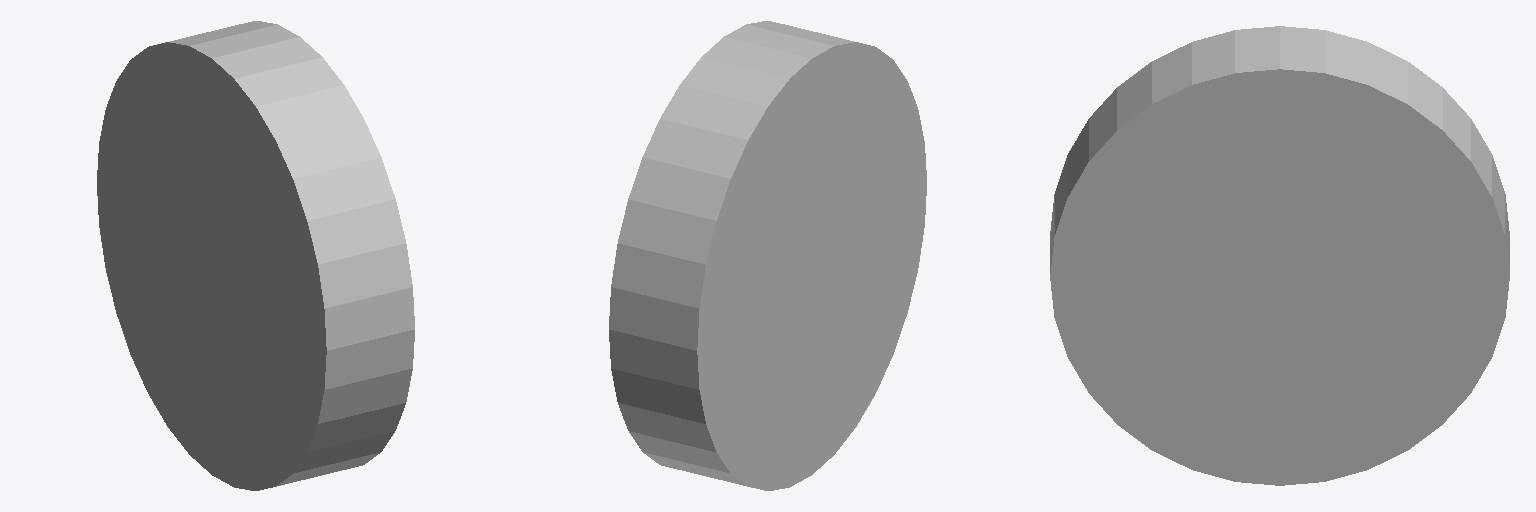
The model's file is airPropeller.obj.
3 renders of one model, left to right at view 1: azimuth 30°, elevation 25°; view 2: azimuth 150°, elevation 25°; view 3: azimuth 270°, elevation 25°, orthographic.
Parts seen in each view (by area): view 1: node_shape0; view 2: node_shape0; view 3: node_shape0.
Part boxes in pixels (x1,y1,x2,y2): node_shape0: (97,21,414,490); node_shape0: (609,21,926,490); node_shape0: (1050,26,1509,485).
Bounding box in the file's own units: 0.3336 × 1.5 × 1.5.